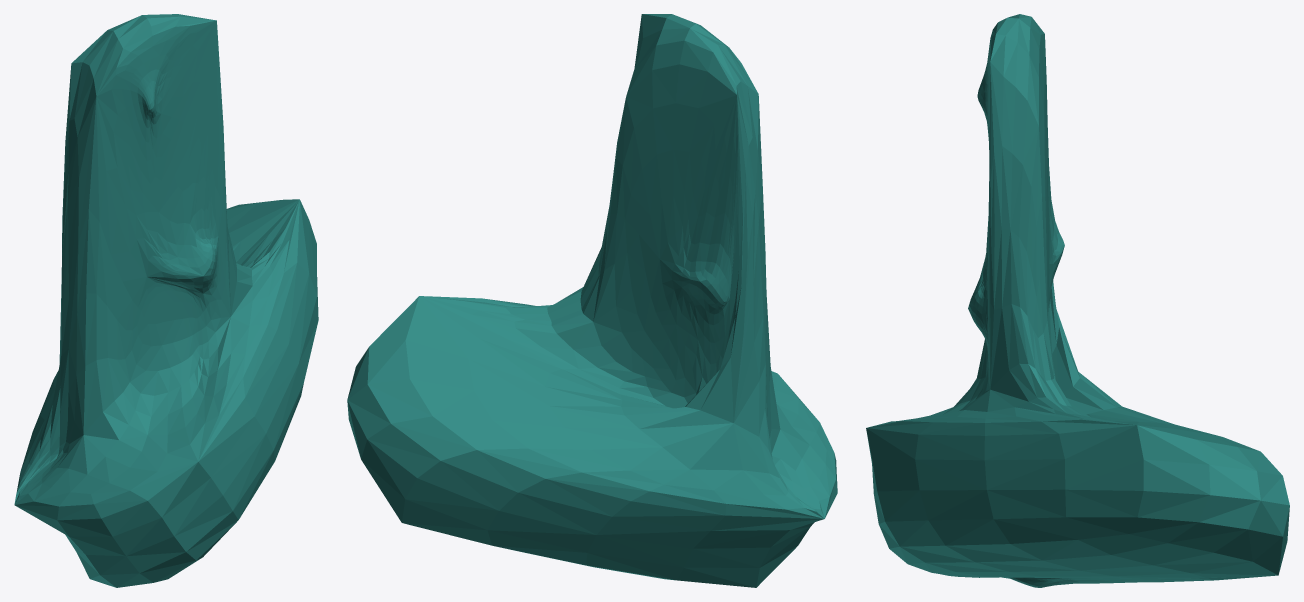
The picture shows the model from 3 angles, left to right: view 1: azimuth 30°, elevation 25°; view 2: azimuth 150°, elevation 25°; view 3: azimuth 270°, elevation 25°; orthographic projection. The views are drawn at different scales.
Visible parts, largest first — view 1: 101_Cube.424; view 2: 101_Cube.424; view 3: 101_Cube.424.
Part boxes in pixels (x1,y1,x2,y2): 101_Cube.424: [14, 14, 318, 587]; 101_Cube.424: [347, 14, 837, 587]; 101_Cube.424: [866, 14, 1289, 587].
Size of the model in its own units: 9.31 by 13.05 by 8.6.
